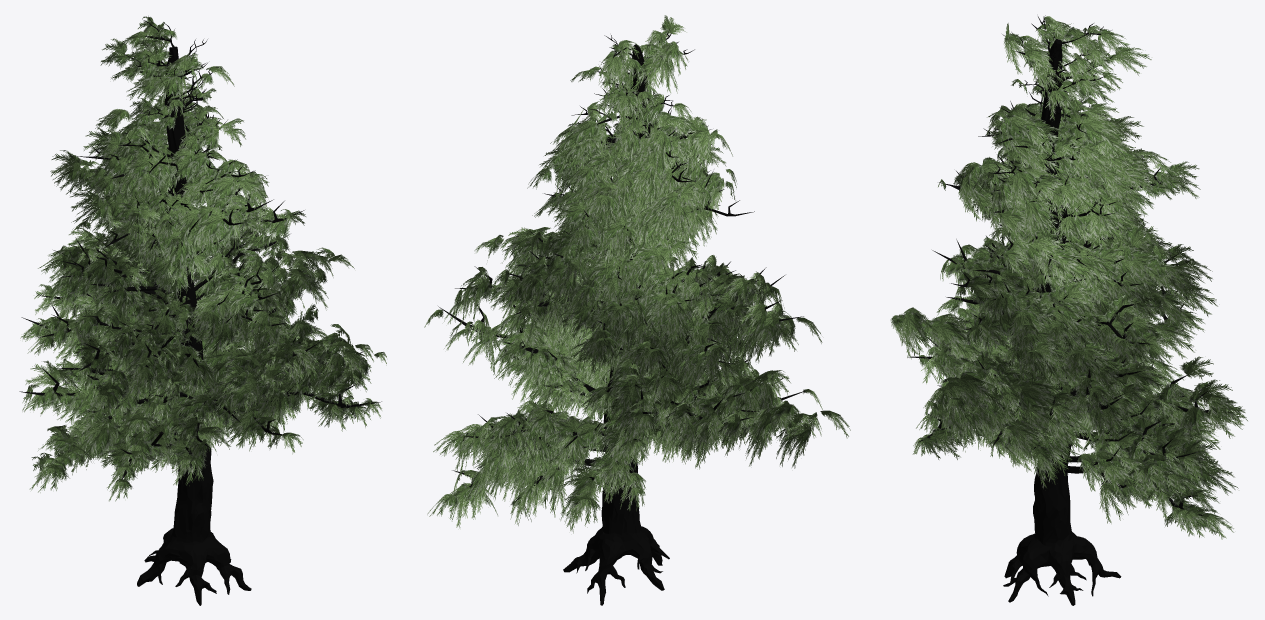
Rendered from ST_Pine_01_LOD0.fbx.
3 renders of one model, left to right at view 1: azimuth 30°, elevation 25°; view 2: azimuth 150°, elevation 25°; view 3: azimuth 270°, elevation 25°, orthographic.
Parts seen in each view (by area): view 1: ST_Pine_01_LOD0; view 2: ST_Pine_01_LOD0; view 3: ST_Pine_01_LOD0.
Boxes of the visible parts, x1,y1,x2,y2 form: ST_Pine_01_LOD0: (19,16,386,605); ST_Pine_01_LOD0: (424,15,850,605); ST_Pine_01_LOD0: (890,15,1247,605).
Size of what is drawn, in the model's own units: 21.74 by 31.74 by 18.94.
